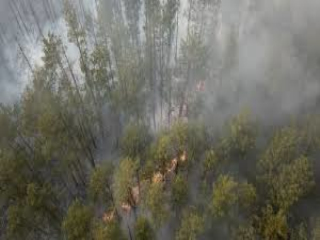smoke: (194, 12, 318, 145), (9, 6, 108, 121)
